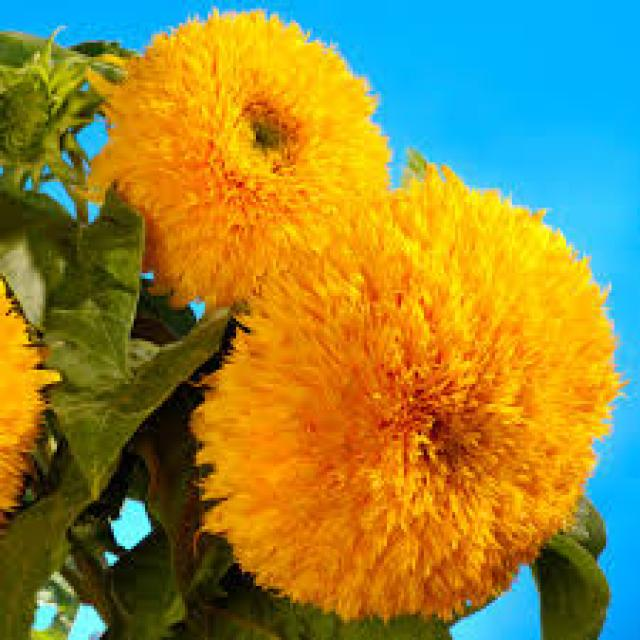sunflower: (183, 145, 640, 634), (61, 0, 403, 326), (0, 256, 73, 532)
